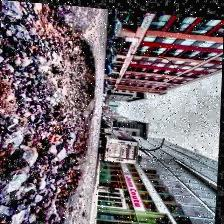pothole: (0, 0, 102, 224)
